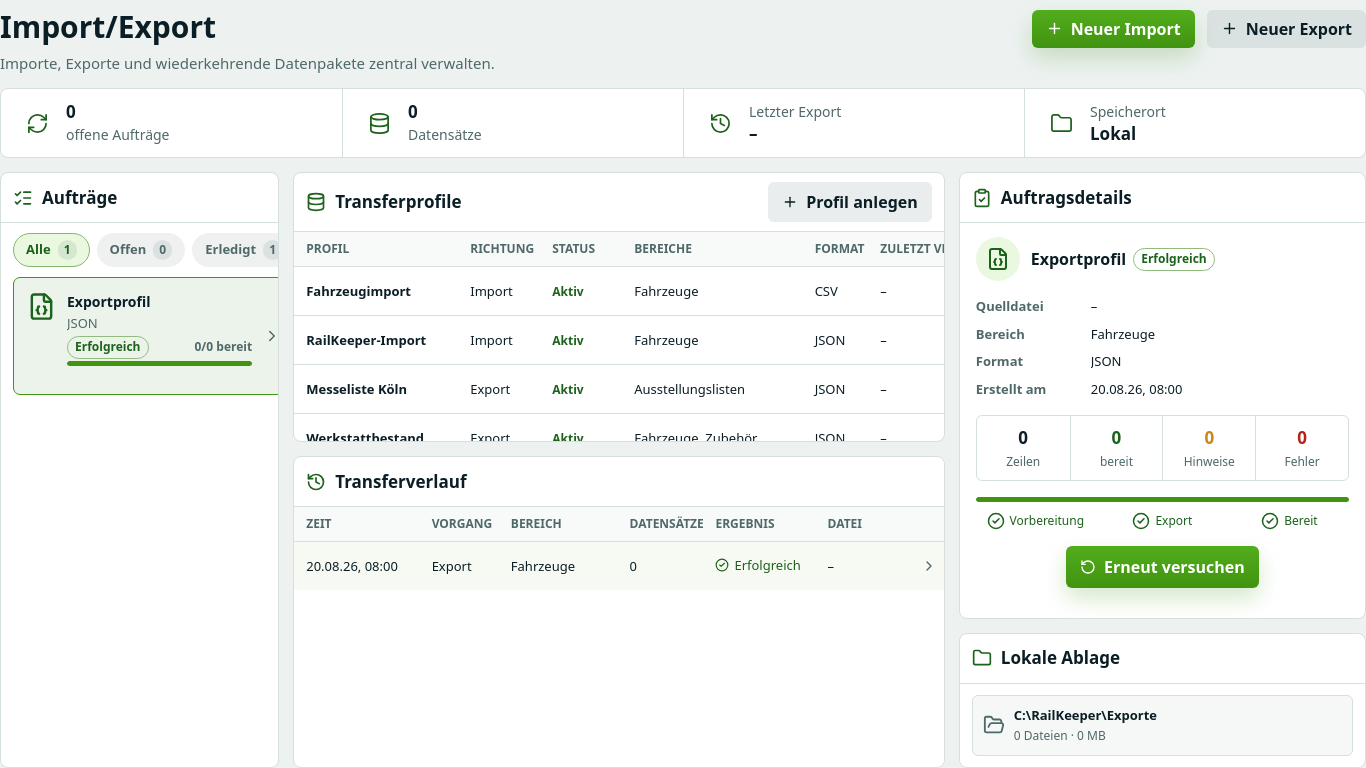
Scenario: data transfer operational dialogs › allows editors to retry terminal state completed
This screenshot has width=1366, height=768.
Click the button "Erneut versuchen": click(1162, 566) [1066,546,1259,588]
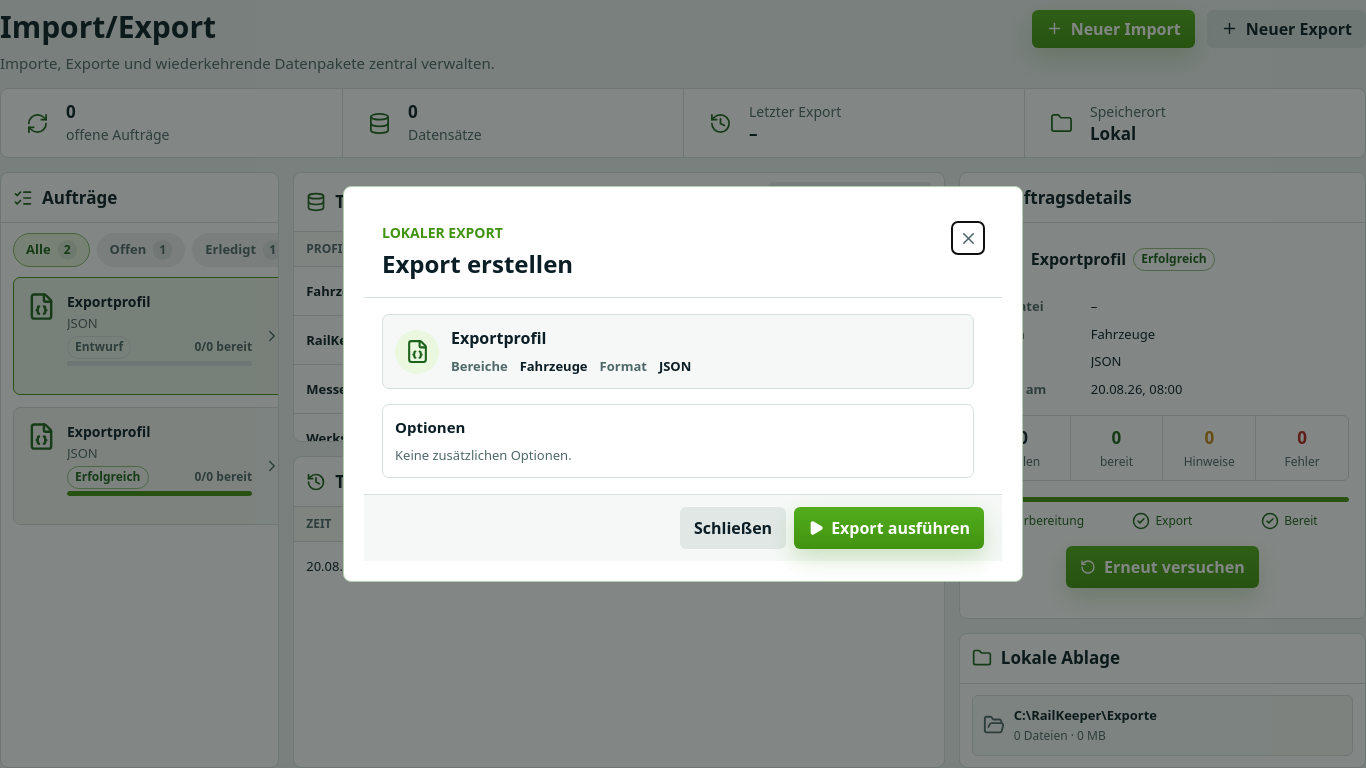
expect the dialog "Export erstellen" is shown: met
